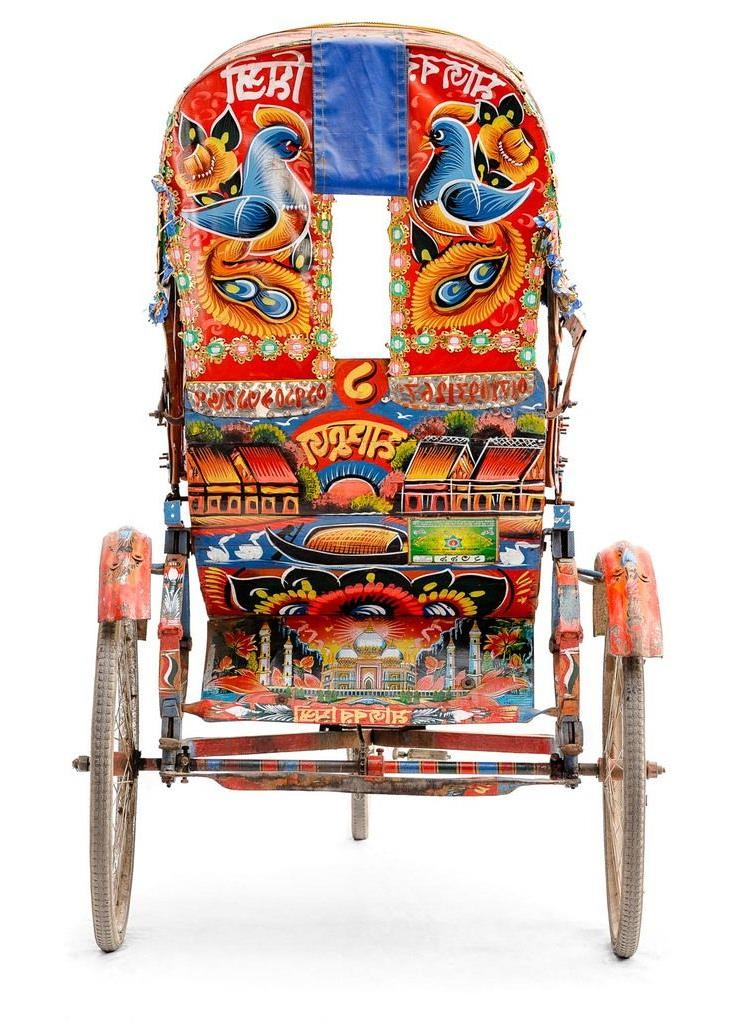Rickshaw: (70, 24, 656, 982)
